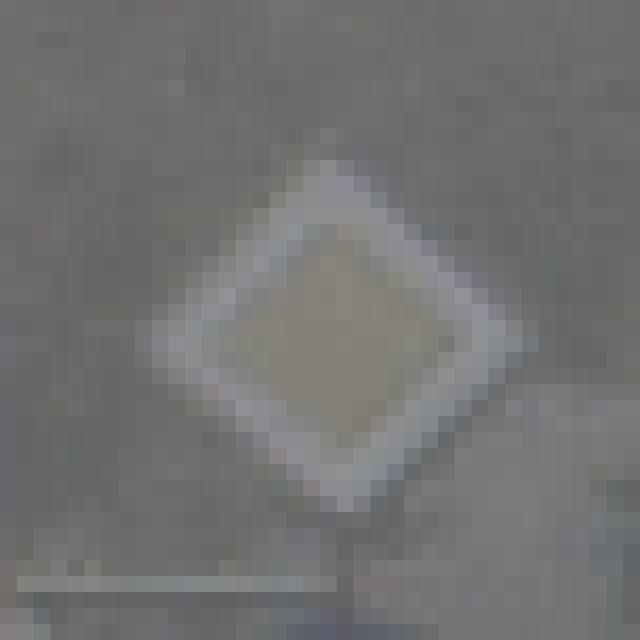Main Road: (102, 97, 557, 561)
